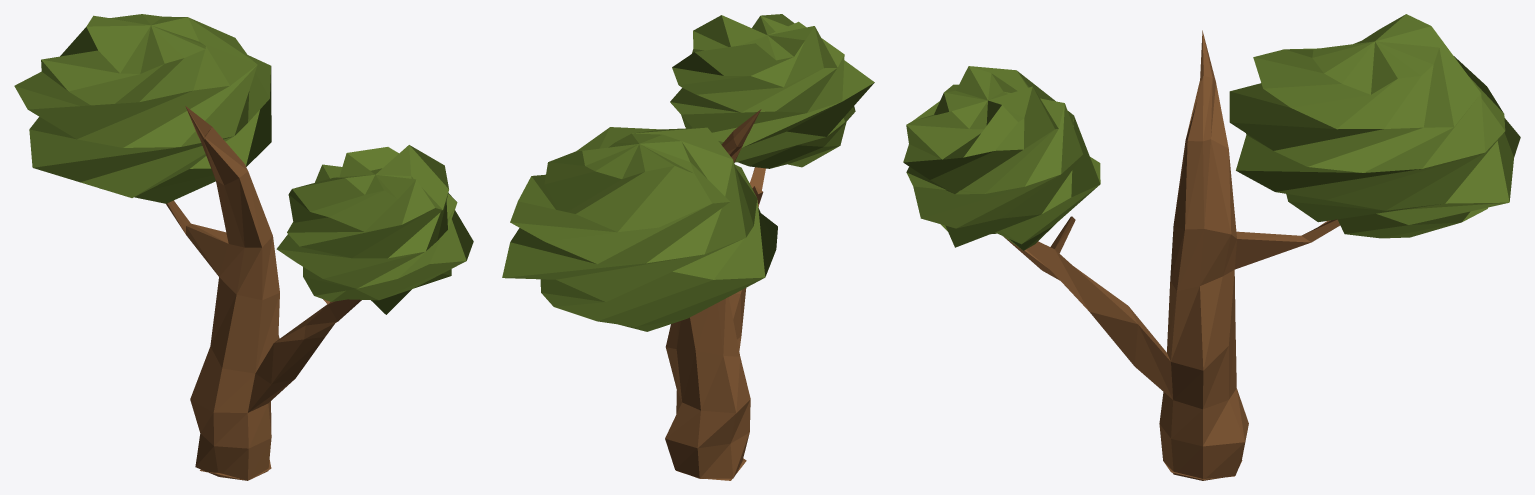
The model's file is tree_five.fbx.
3 views of the same model, side by side, from view 1: azimuth 30°, elevation 25°; view 2: azimuth 150°, elevation 25°; view 3: azimuth 270°, elevation 25° (orthographic). The views are drawn at different scales.
Visible parts, largest first — view 1: leafs, wood; view 2: leafs, wood; view 3: leafs, wood.
Boxes of the visible parts, <box> form: leafs: <box>14,14,473,314</box>; wood: <box>166,106,361,480</box>; leafs: <box>502,14,874,331</box>; wood: <box>665,109,765,480</box>; leafs: <box>903,14,1520,250</box>; wood: <box>1003,30,1340,480</box>.
Bounding box in the file's own units: 225 × 330 × 435.
